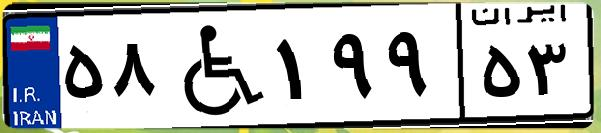1: (270, 28, 330, 110)
3: (525, 38, 570, 115)
5: (57, 26, 110, 100), (475, 38, 525, 113)
8: (110, 28, 158, 98)
9: (385, 28, 445, 110), (330, 28, 385, 110)
ژ (معلولین و جانبازان): (158, 12, 270, 120)
